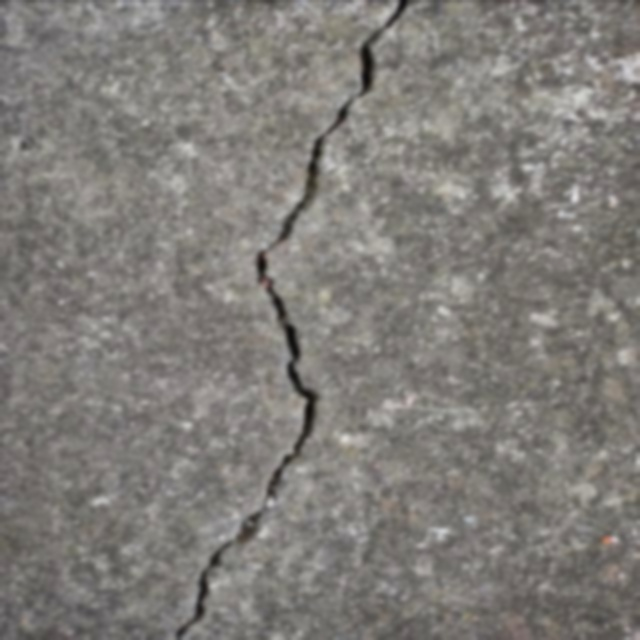SurfaceCrack: (124, 0, 442, 639)
